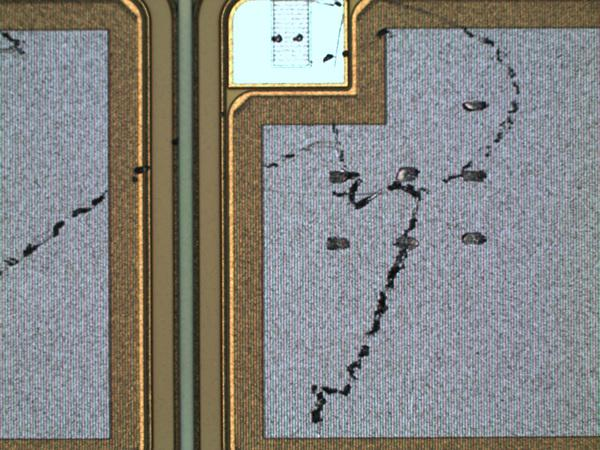SCRATCH: (1, 1, 527, 443)
